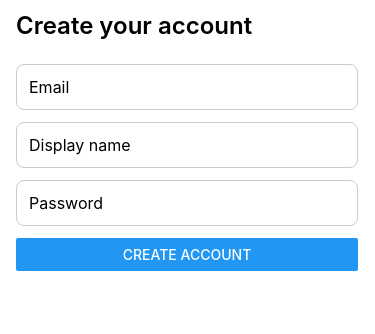
shows the message from the server for other api errors
This screenshot has width=375, height=334.
Type "adam@test.com" into the field with placeholder "Email". click: (187, 87)
box: [16,64,358,110]
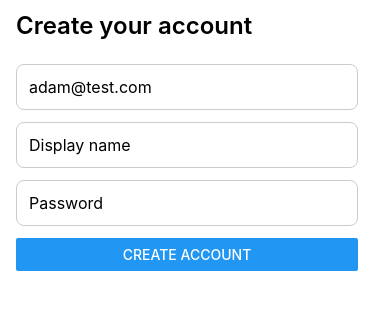
Type "adam" into the field with placeholder "Display name". click: (187, 145)
box: [16,122,358,168]
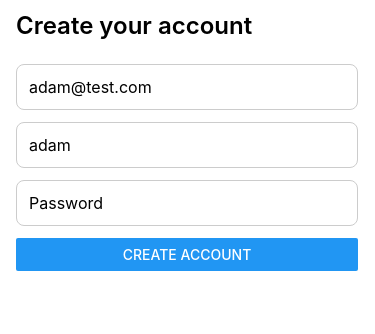
Type "password123" into the password field with placeholder "Password". click: (187, 203)
box: [16,180,358,226]
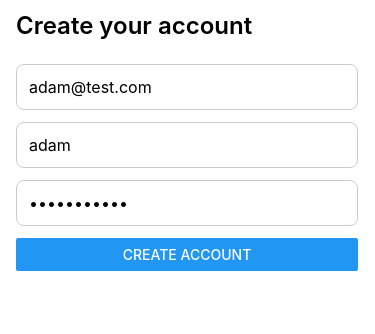
Click the button "Create account". click: (187, 254)
box: [16,238,358,271]
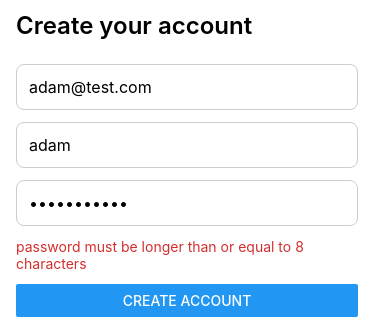
Now the text "password must be longer than or equal to 8 characters" is shown, box [16,238,358,272]
